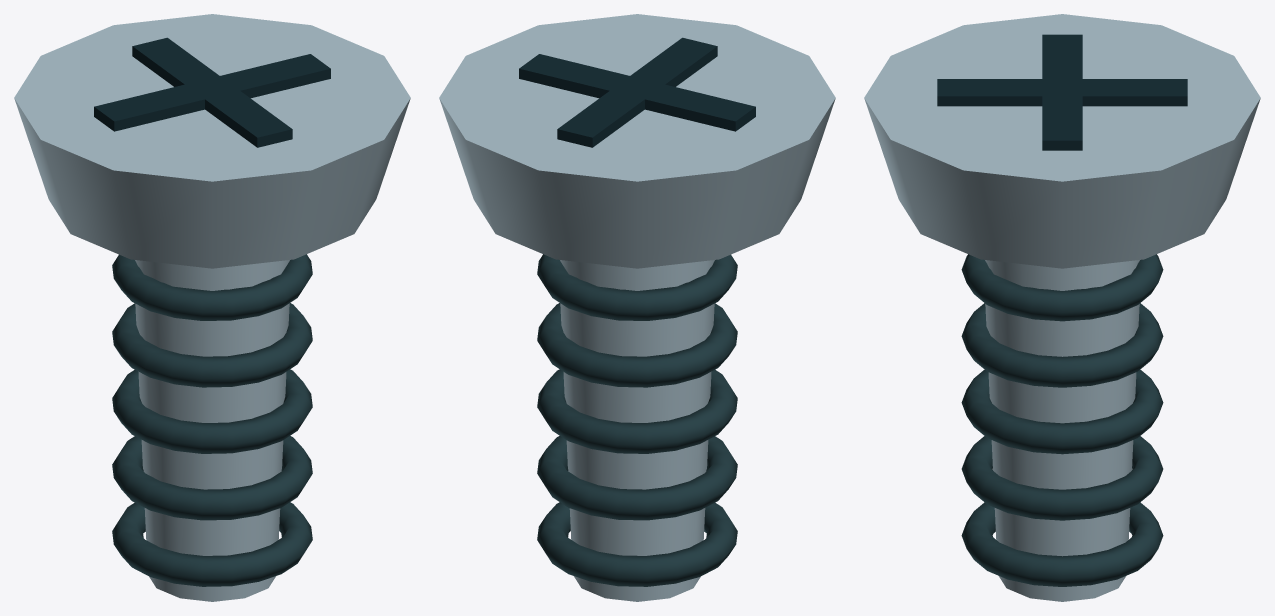
Rendered from screw.glb.
3 renders of one model, left to right at view 1: azimuth 30°, elevation 25°; view 2: azimuth 150°, elevation 25°; view 3: azimuth 270°, elevation 25°, orthographic.
Parts seen in each view (by area): view 1: head, shaft, thread-0, thread-1, thread-2, thread-3, thread-4, slot-x, slot-z; view 2: head, shaft, thread-0, thread-1, thread-2, thread-3, thread-4, slot-x, slot-z; view 3: head, shaft, thread-0, thread-1, thread-2, thread-3, thread-4, slot-z, slot-x.
Boxes of the visible parts, x1,y1,x2,y2 form: head: [14, 14, 410, 268]; shaft: [135, 260, 289, 601]; thread-0: [112, 502, 312, 586]; thread-1: [112, 436, 312, 520]; thread-2: [112, 369, 312, 453]; thread-3: [112, 303, 312, 387]; thread-4: [112, 254, 312, 320]; slot-x: [94, 54, 330, 131]; slot-z: [132, 37, 292, 147]; head: [439, 14, 835, 268]; shaft: [560, 260, 714, 601]; thread-0: [537, 502, 737, 586]; thread-1: [537, 436, 737, 520]; thread-2: [537, 369, 737, 453]; thread-3: [537, 303, 737, 387]; thread-4: [537, 254, 737, 320]; slot-x: [519, 54, 755, 131]; slot-z: [557, 37, 717, 147]; head: [864, 14, 1260, 268]; shaft: [985, 260, 1139, 601]; thread-0: [961, 502, 1163, 586]; thread-1: [961, 436, 1163, 520]; thread-2: [961, 369, 1163, 454]; thread-3: [961, 303, 1163, 387]; thread-4: [961, 254, 1163, 321]; slot-z: [937, 79, 1187, 106]; slot-x: [1042, 34, 1082, 150].
Bounding box in the file's own units: 0.46 × 0.623 × 0.46.
